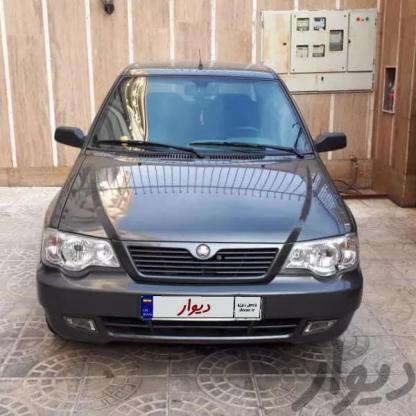Car: (0, 51, 376, 352)
